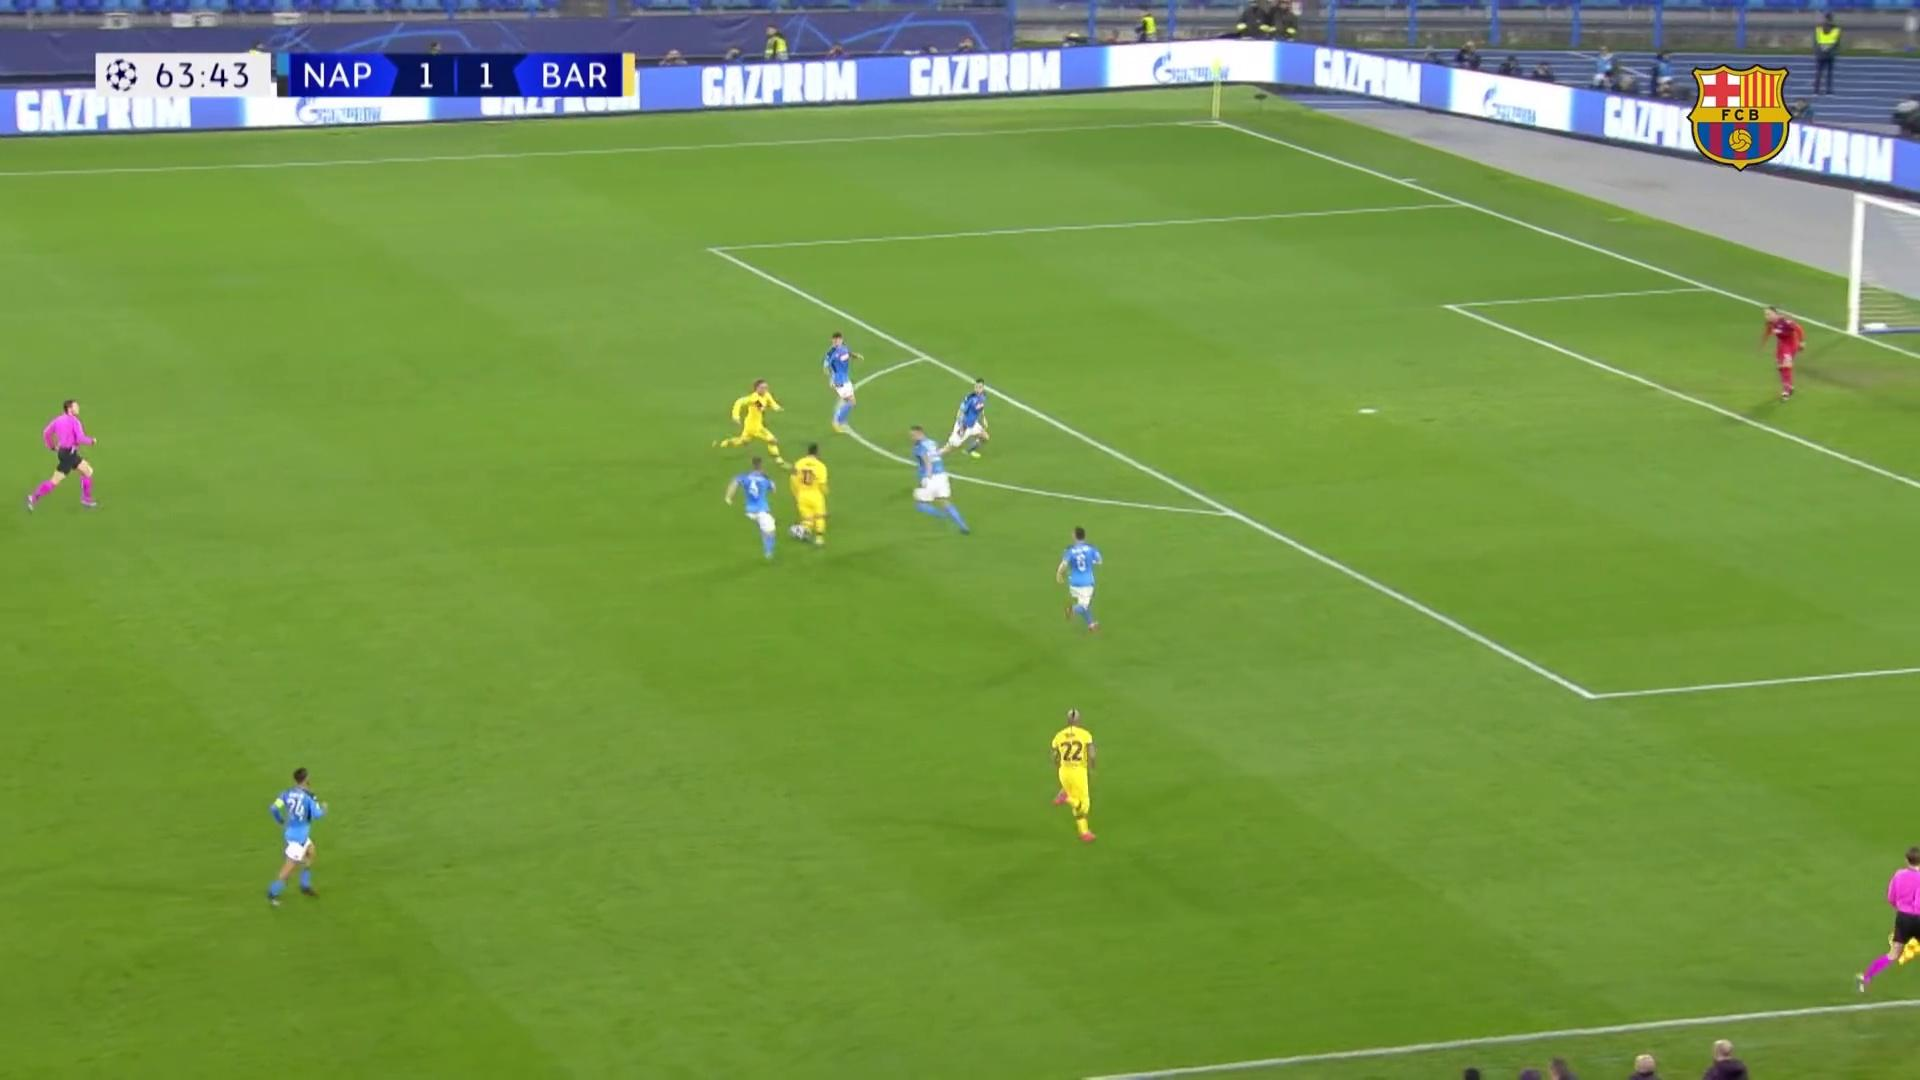ball: (788, 523, 813, 544)
goalkeeper: (1754, 302, 1806, 407)
player: (258, 761, 331, 910), (898, 421, 970, 539), (1048, 704, 1105, 845), (716, 376, 791, 473), (725, 451, 785, 566), (1055, 524, 1110, 642), (782, 438, 835, 555), (934, 377, 993, 464), (815, 329, 861, 436), (1617, 1042, 1666, 1076), (1438, 1060, 1511, 1079)
referee: (1855, 848, 1920, 1002), (25, 396, 106, 516)
